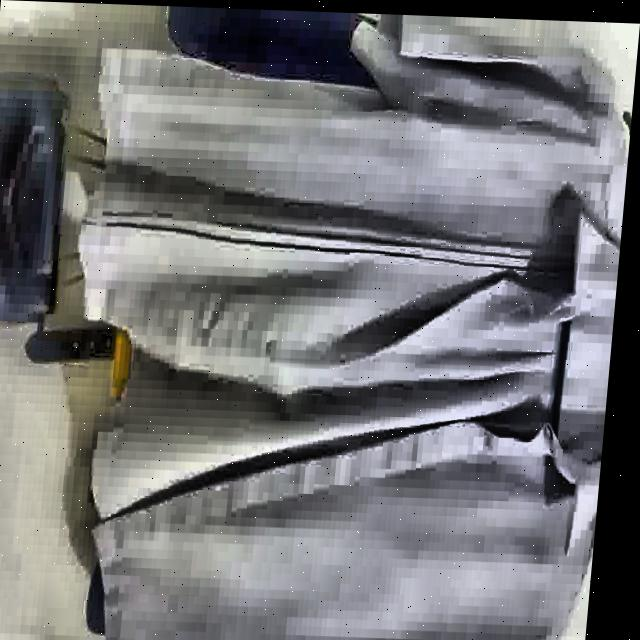clothes: (38, 4, 640, 640)
